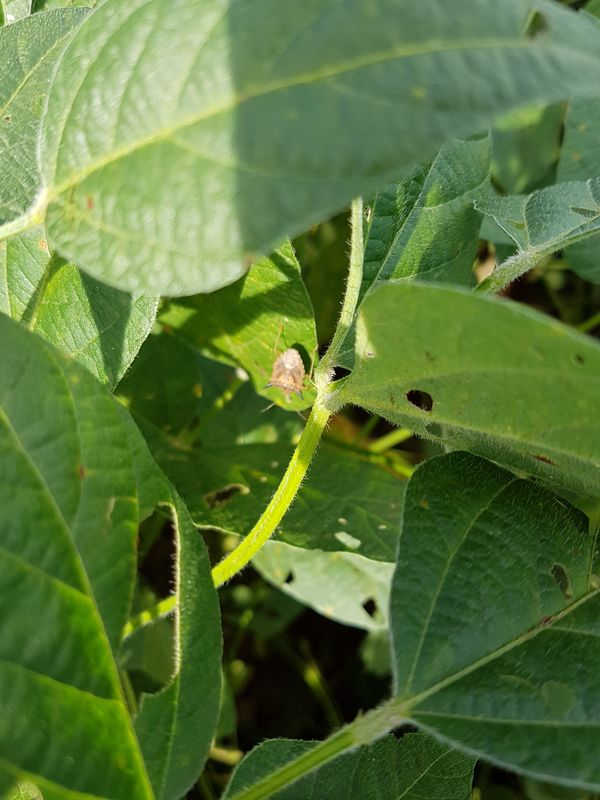Euschistus_heros_adulto: (248, 320, 331, 429)
